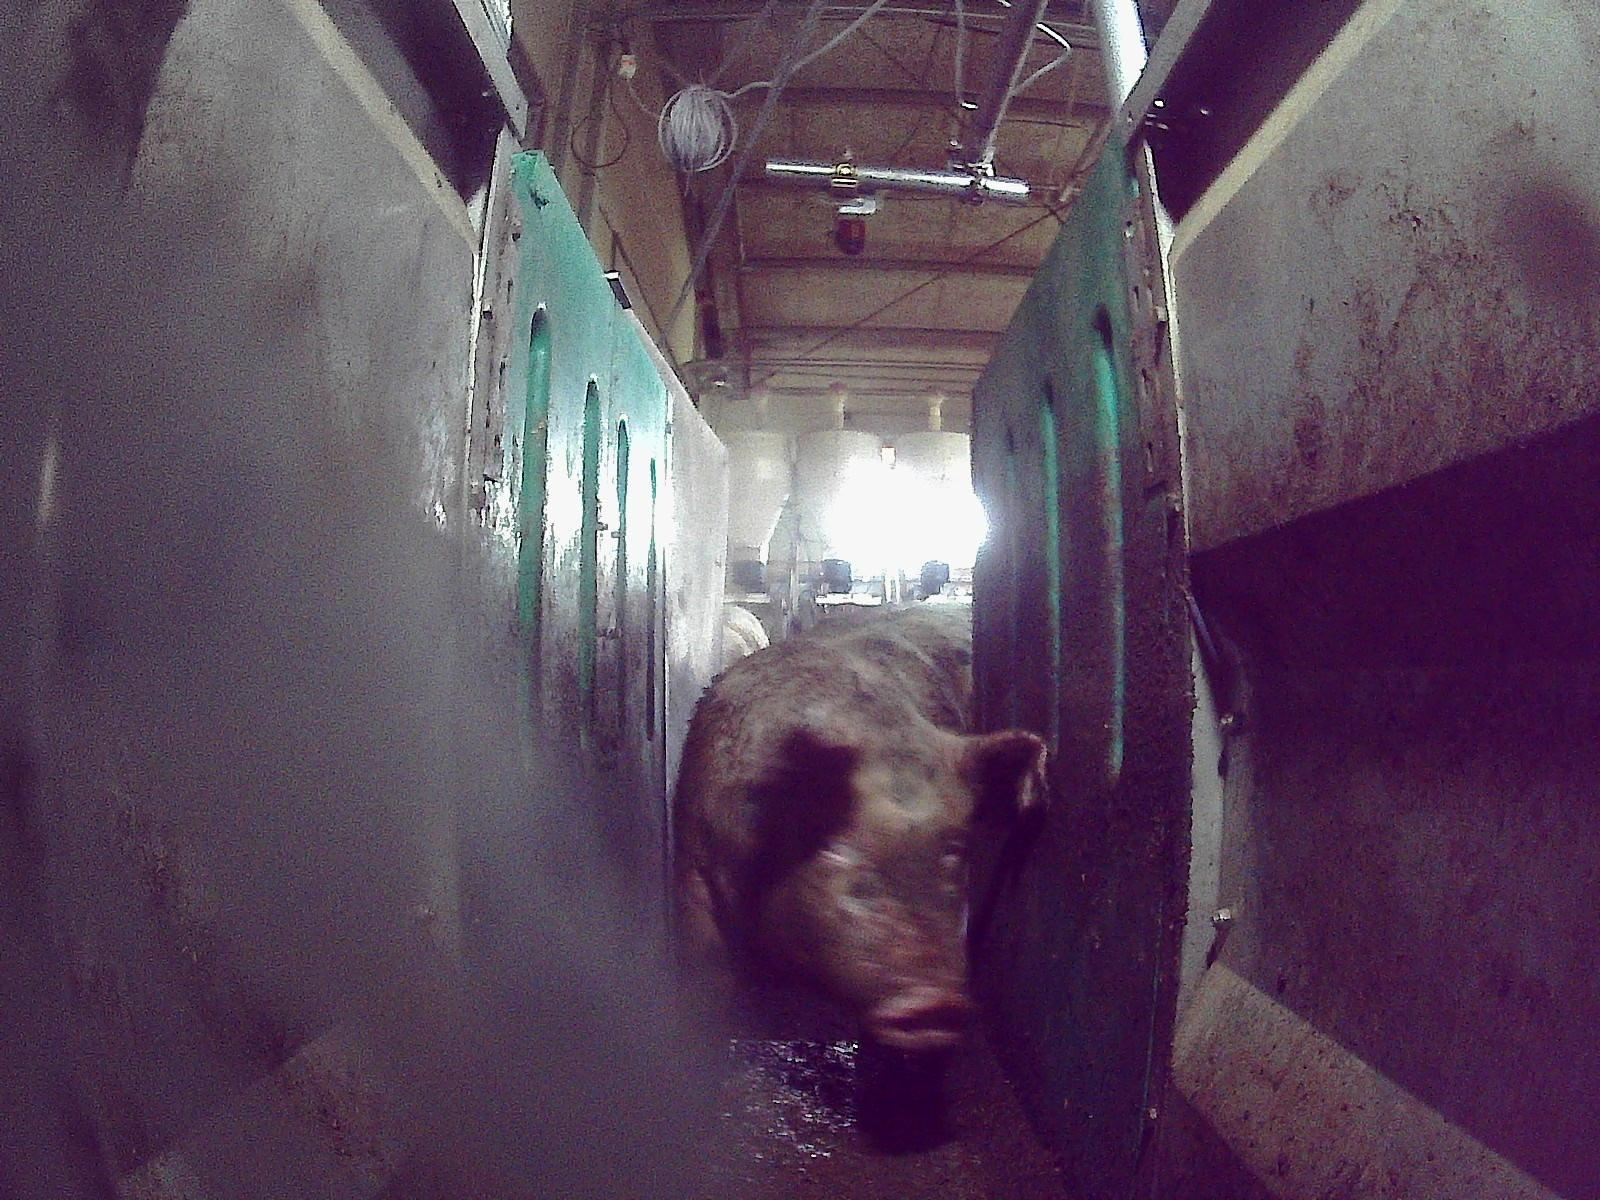Face: (757, 728, 980, 1051)
